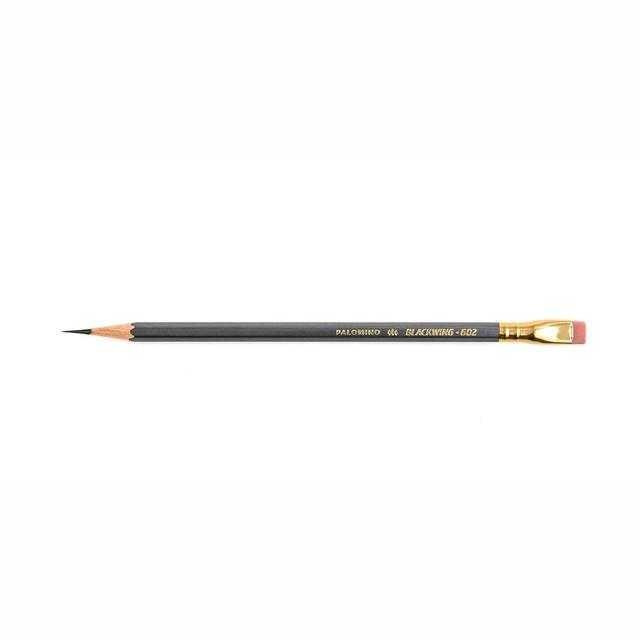pencil: (42, 308, 598, 352)
